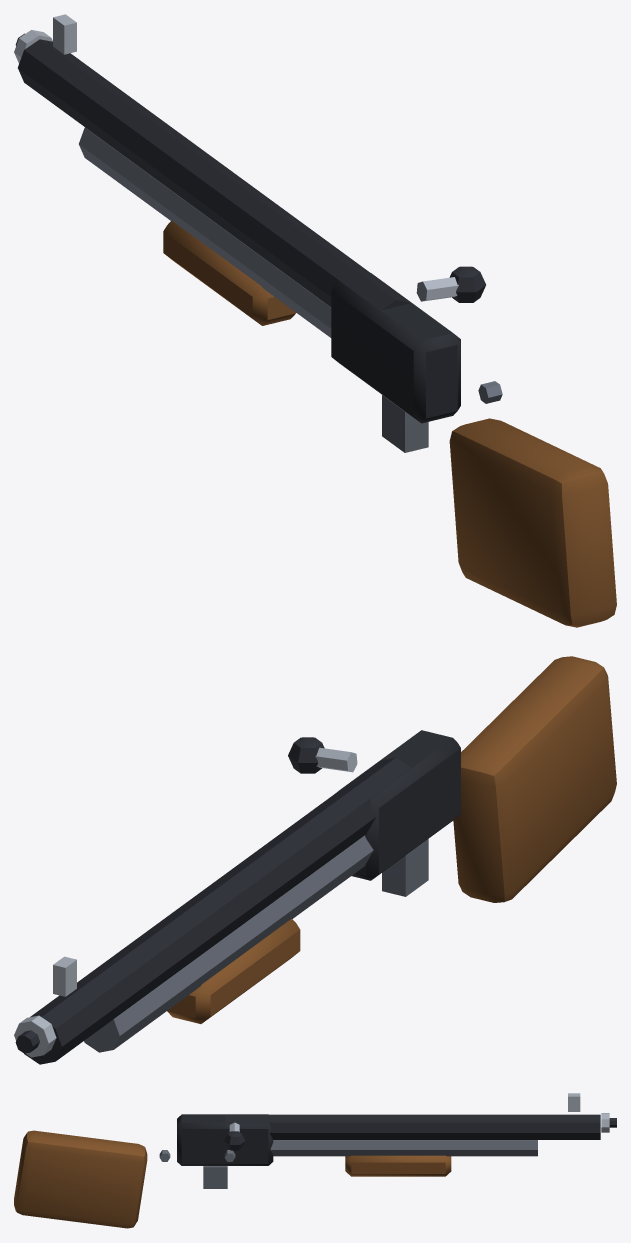
File: item_shotgun.glb
The picture shows the model from 3 angles, top to bottom: view 1: azimuth 30°, elevation 25°; view 2: azimuth 150°, elevation 25°; view 3: azimuth 270°, elevation 25°; orthographic projection. The views are drawn at different scales.
Visible parts, largest first — view 1: item_shotgun, item_shotgun_detail; view 2: item_shotgun, item_shotgun_detail; view 3: item_shotgun, item_shotgun_detail.
Boxes of the visible parts, left/top/right/bottom form: item_shotgun: left=18, top=39, right=616, bottom=627; item_shotgun_detail: left=14, top=14, right=502, bottom=403; item_shotgun: left=24, top=656, right=616, bottom=1064; item_shotgun_detail: left=14, top=737, right=357, bottom=1057; item_shotgun: left=14, top=1114, right=600, bottom=1228; item_shotgun_detail: left=159, top=1093, right=616, bottom=1161.
Size of the model in its own units: 0.1541 by 0.2979 by 1.25.
